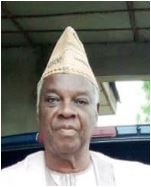without_facemask: (43, 110, 99, 160)
